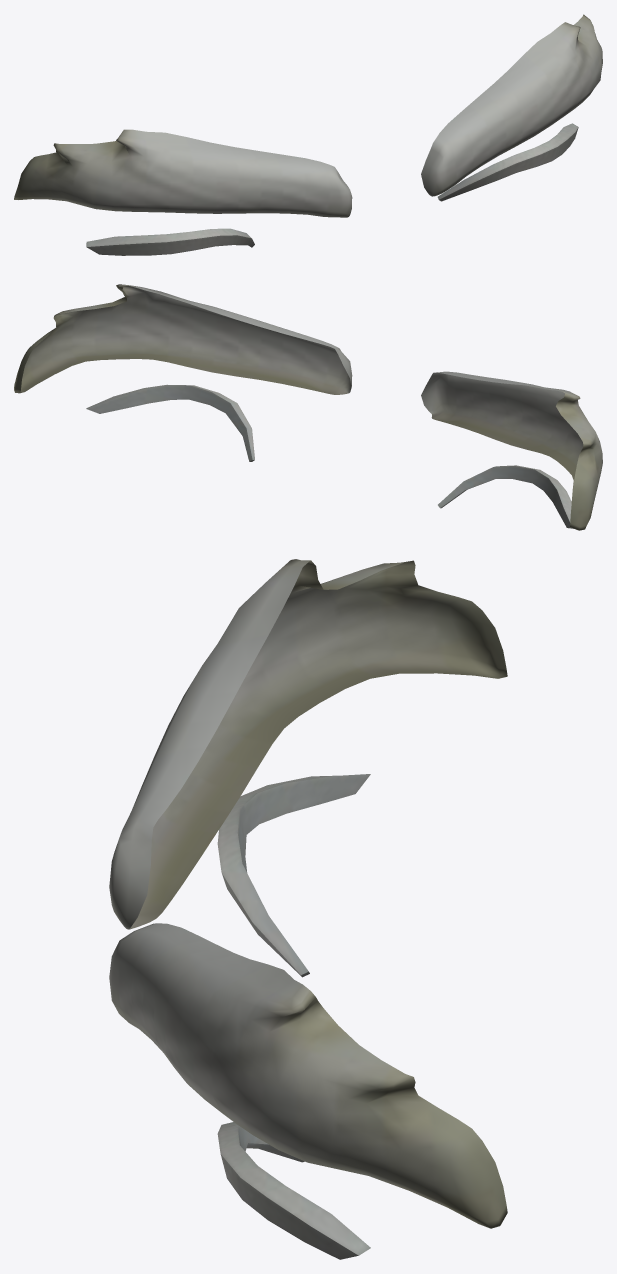
Rendered from eyebrows-regular.glb.
3 views of the same model, one above another, from view 1: azimuth 30°, elevation 25°; view 2: azimuth 150°, elevation 25°; view 3: azimuth 270°, elevation 25° (orthographic). The views are drawn at different scales.
Visible parts, largest first — view 1: Eyebrows_Regular; view 2: Eyebrows_Regular; view 3: Eyebrows_Regular.
Boxes of the visible parts, box(x1,y1,x2,y2) form: Eyebrows_Regular: box(14, 14, 602, 255); Eyebrows_Regular: box(14, 284, 602, 530); Eyebrows_Regular: box(109, 559, 507, 1259).
Bounding box in the file's own units: 0.1247 × 0.0306 × 0.0376.
Materials: 1 (1 with a texture image).
